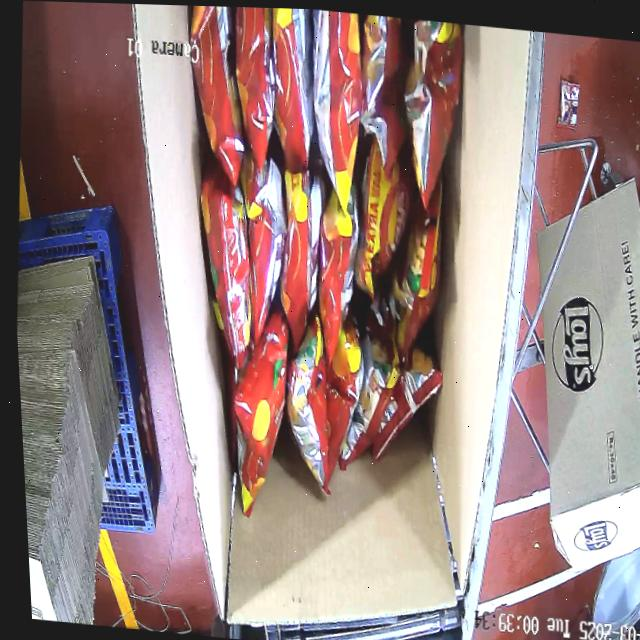MASALA: (153, 5, 488, 539)
